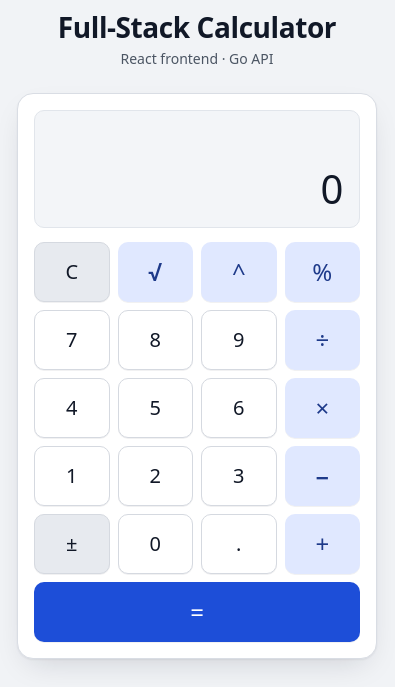
Test: App › percent › shows a clear message if the API is unavailable
Click the button "5" at (155, 408), box [118,378,193,438]
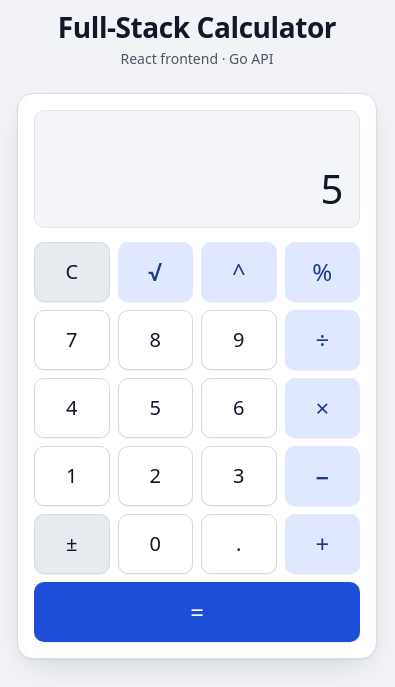
Click the button "0" at (155, 544), box [118,514,193,574]
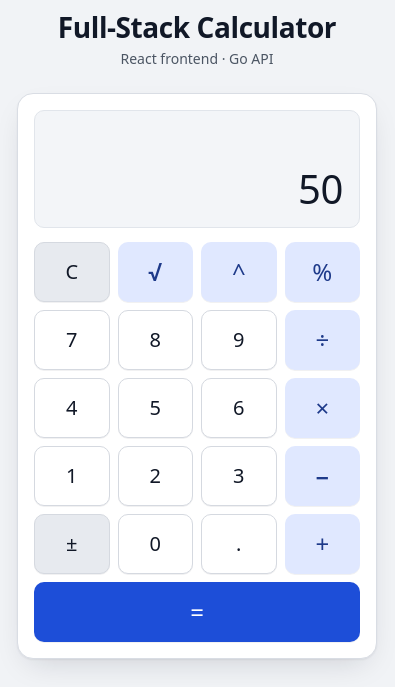
Click the button named "Percent" at (322, 272), box [284,242,360,302]
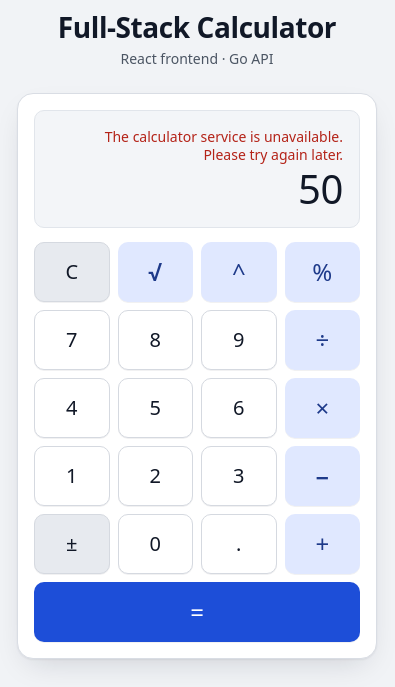
Check: the message reads "The calculator service is unavailable. Please try again later.", box [105,127,343,164]
